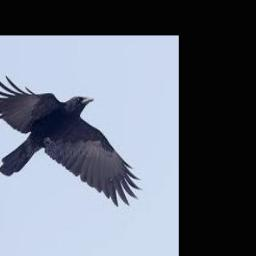Crow: (0, 74, 140, 205)
